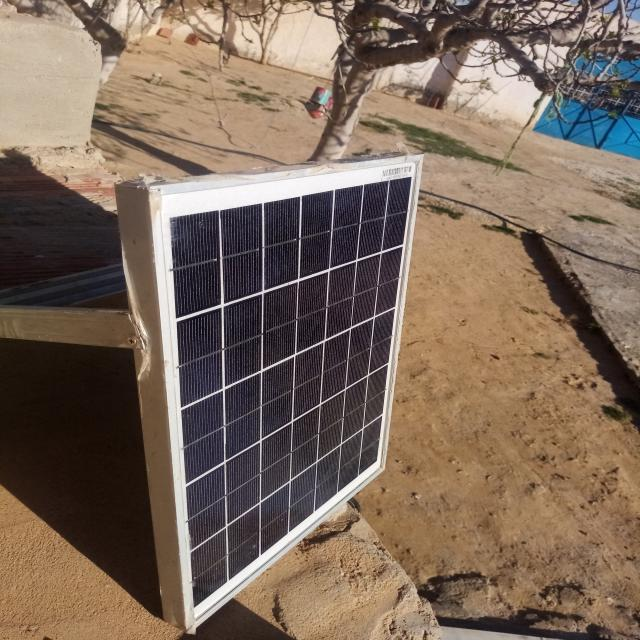no faulty: (144, 155, 426, 632)
